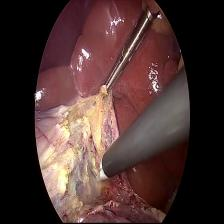Grasper: (93, 12, 154, 107)
Hook: (90, 154, 108, 191)
